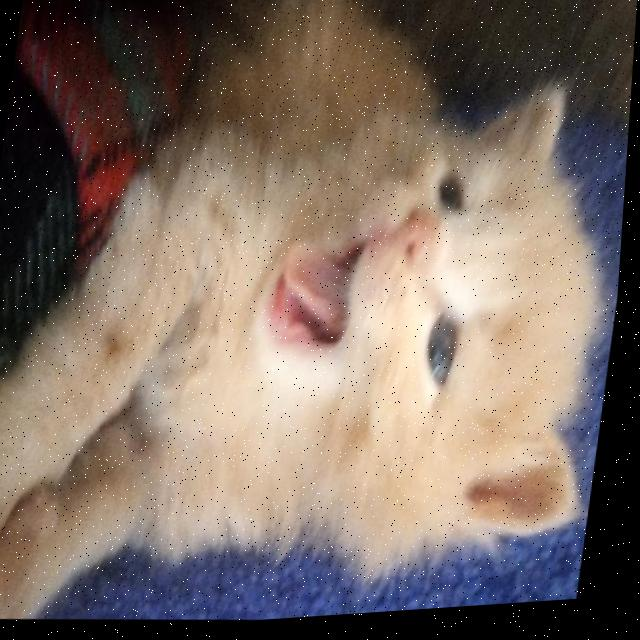Cats: (0, 19, 637, 640)
